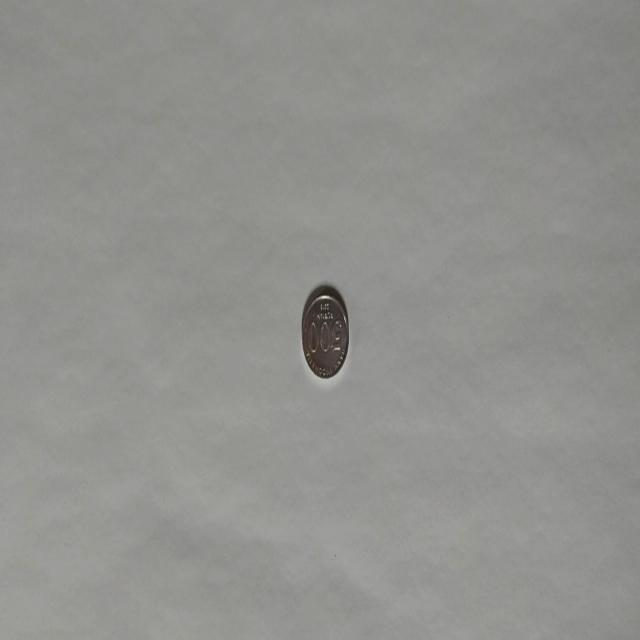lima ratus rupiah: (300, 284, 350, 380)
